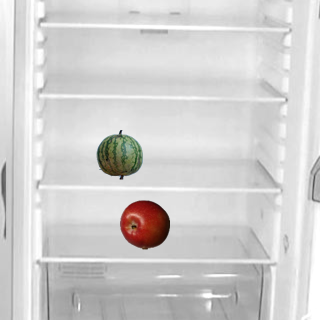Apple Braeburn: (119, 199, 169, 249)
Watermelon: (94, 129, 144, 179)
